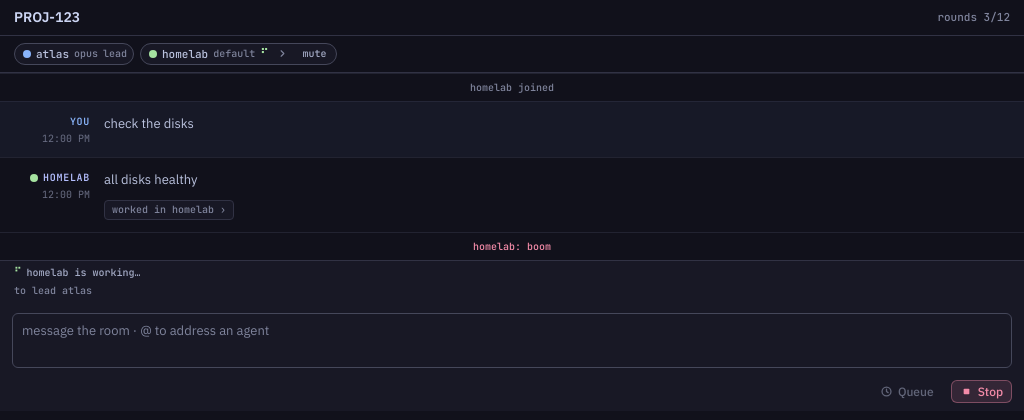
it: tapping a participant chip mentions it, and its open link opens its session
In the text box labelled "message the room · @ to address an agent": (512, 340) [12,313,1012,368], type "hi"
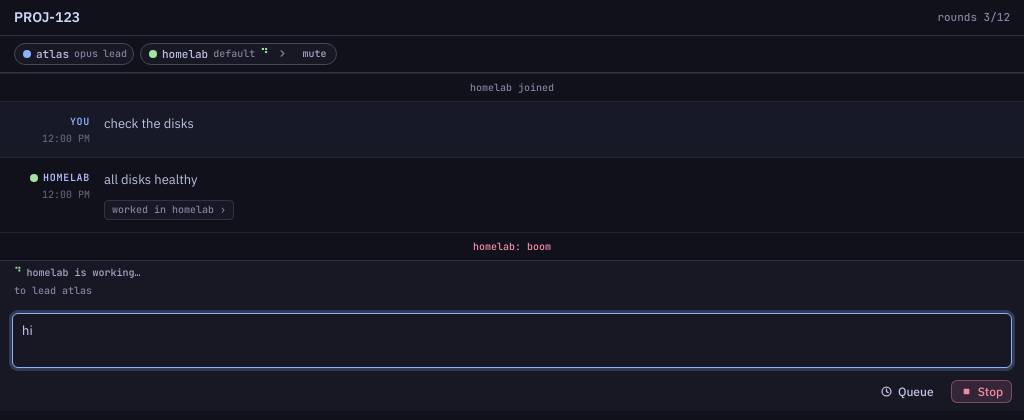
Click the button with aria-label "Mention homelab": click(205, 54) [141,44,270,64]
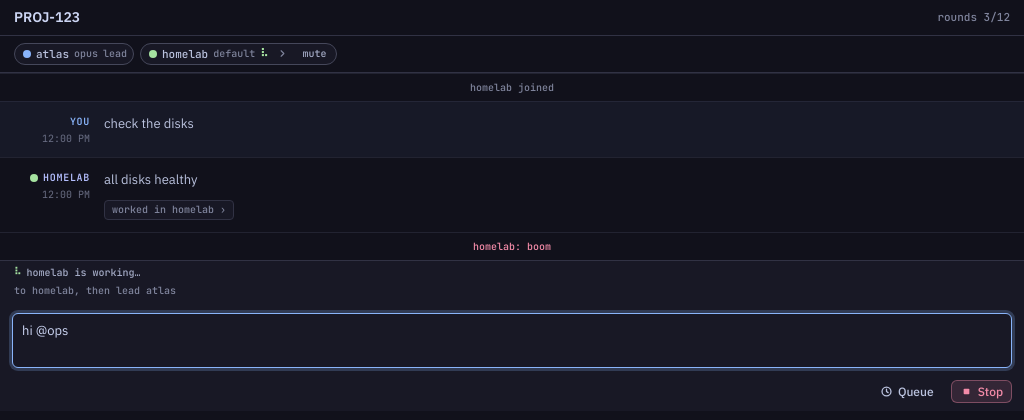
Expected: the text box named "message" holds "hi @ops ", [12,313,1012,368]
